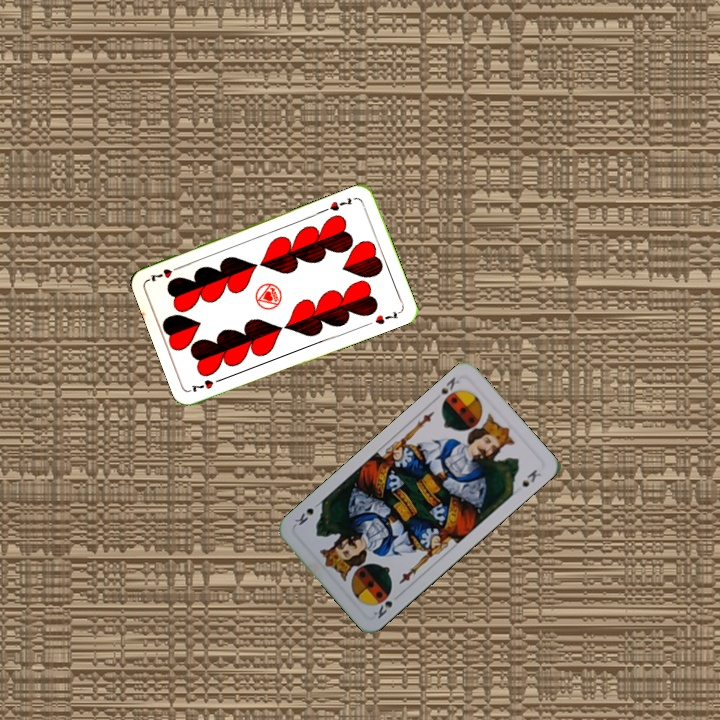H7: (187, 374, 226, 395), (326, 194, 355, 214)
SK: (369, 590, 403, 621), (436, 373, 462, 397)
